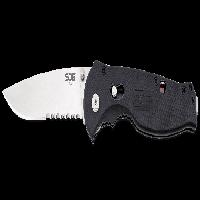knife: (2, 59, 198, 144)
